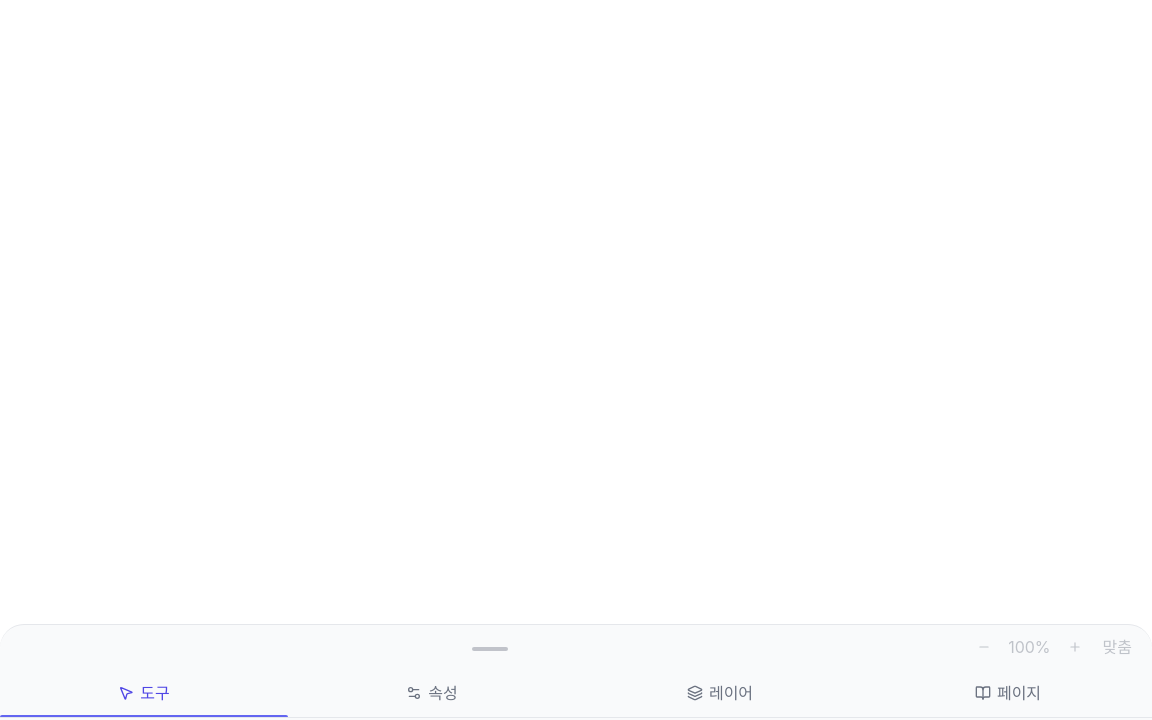
MobileBottomSheet — "페이지" 탭 존재 › "페이지" 탭을 클릭하면 PagePanel 이 노출된다
Click the tab "페이지" at point(1008, 693), box [864,669,1151,717]
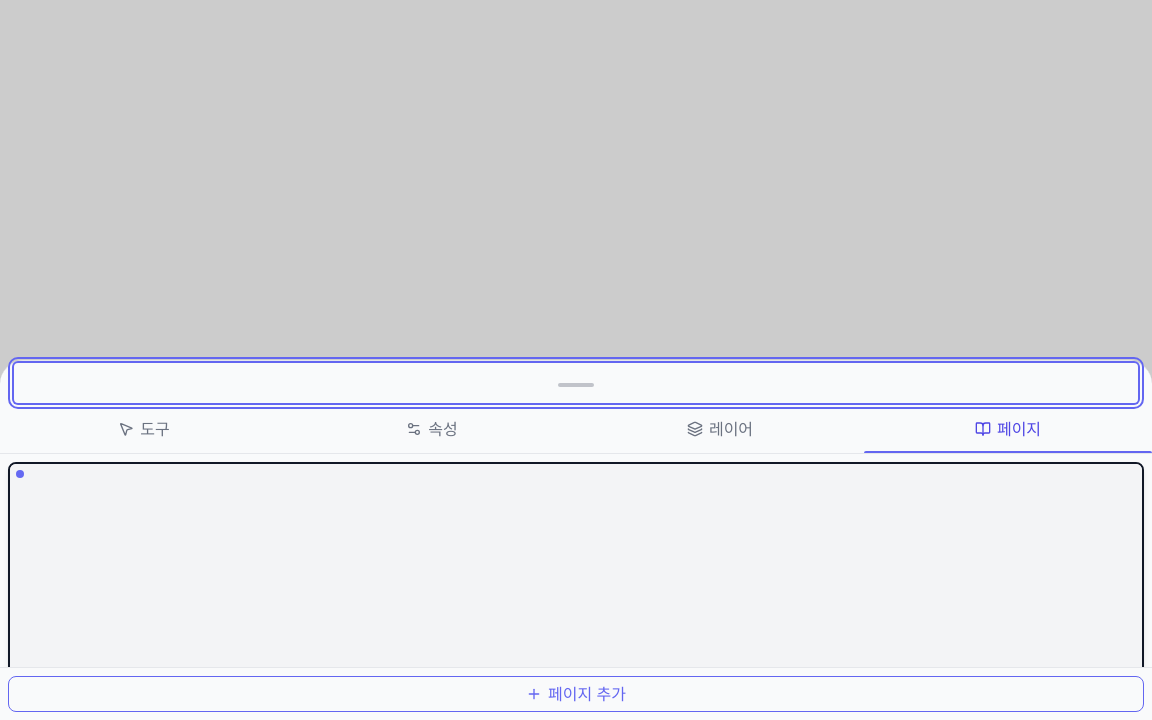
Expected: the element with test id "page-panel" is shown, [0,454,1151,719]
